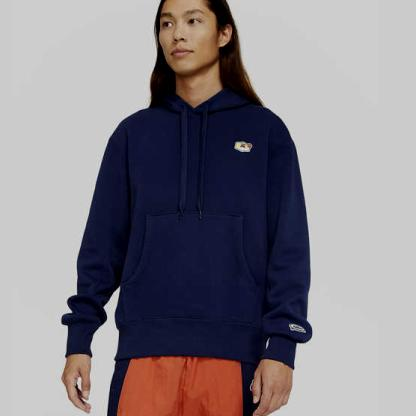dress: (48, 88, 334, 365)
